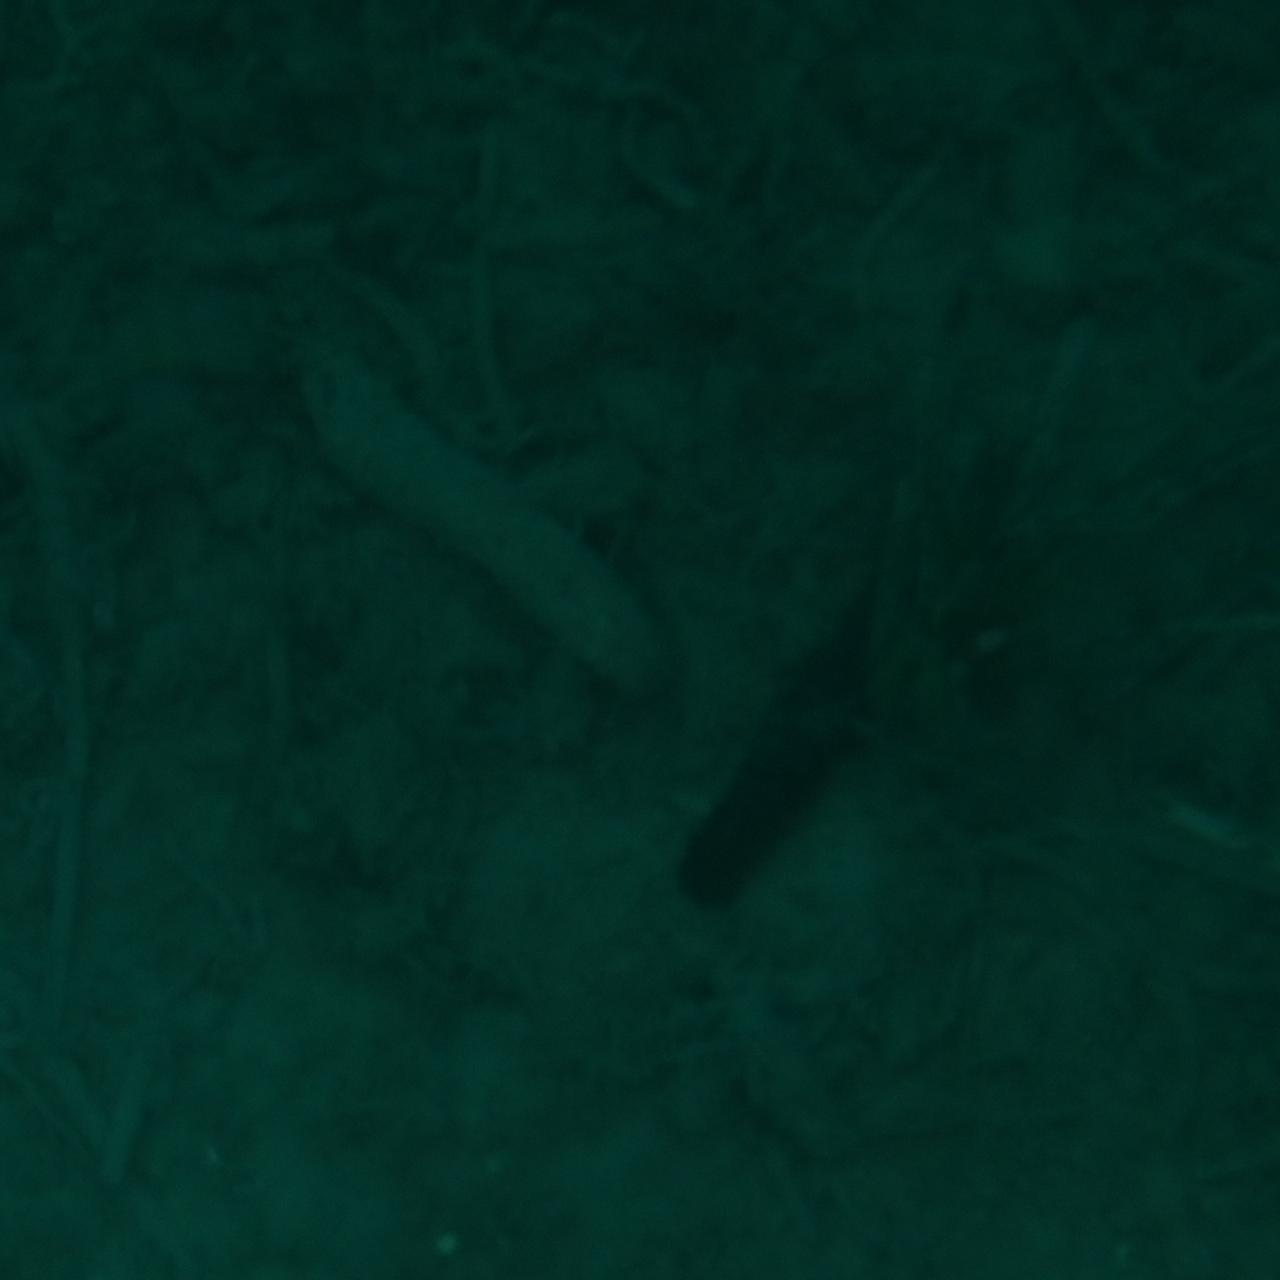Holothuria tubulosa: (284, 329, 694, 709), (678, 601, 904, 921)
